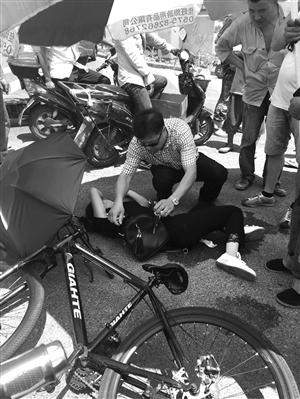falling: (73, 178, 261, 270)
